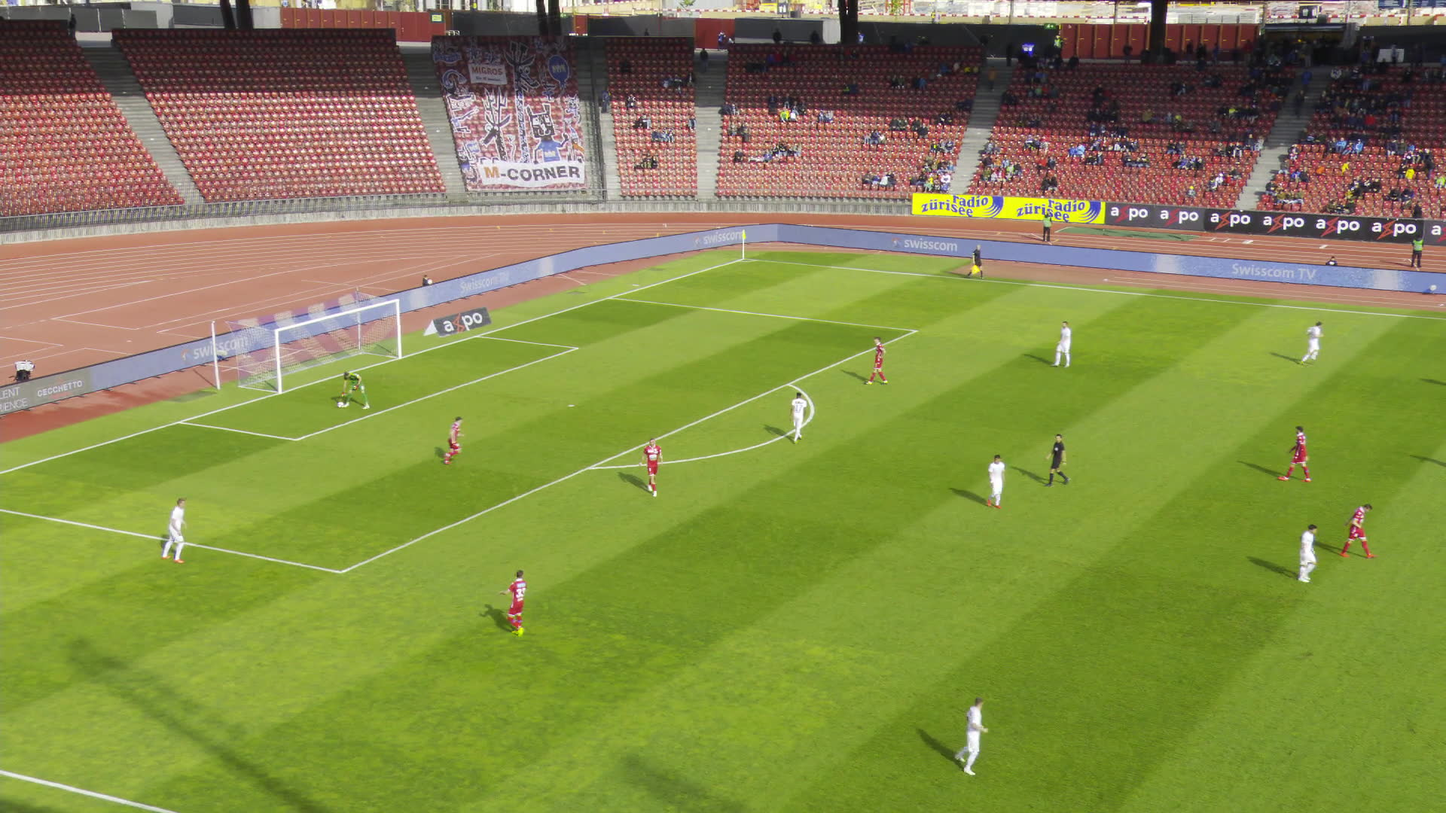ball: (336, 400, 344, 408)
player: (950, 693, 984, 778), (157, 492, 191, 562), (499, 568, 528, 640), (1286, 523, 1322, 581), (1338, 500, 1372, 559), (637, 435, 664, 495), (1281, 425, 1308, 483), (435, 415, 464, 464), (980, 454, 1004, 510), (340, 367, 368, 409), (783, 391, 806, 442), (1295, 319, 1320, 364), (863, 335, 886, 383), (1048, 321, 1070, 367)
referee: (1041, 431, 1063, 485), (966, 243, 981, 278)
